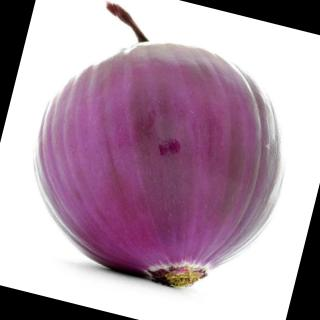Bawang Merah: (4, 1, 317, 310)
